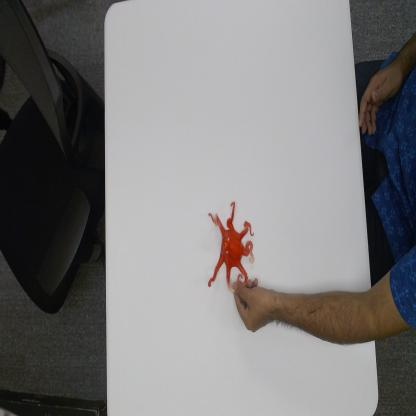Arm: (282, 239, 416, 348)
Hand: (231, 276, 282, 334)
Octopus: (206, 197, 256, 294)
